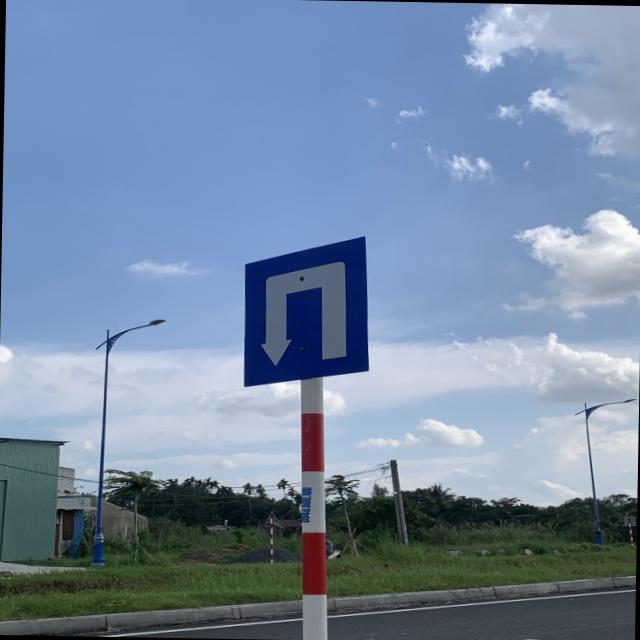Den_Giao_Thong: (239, 235, 368, 388)
